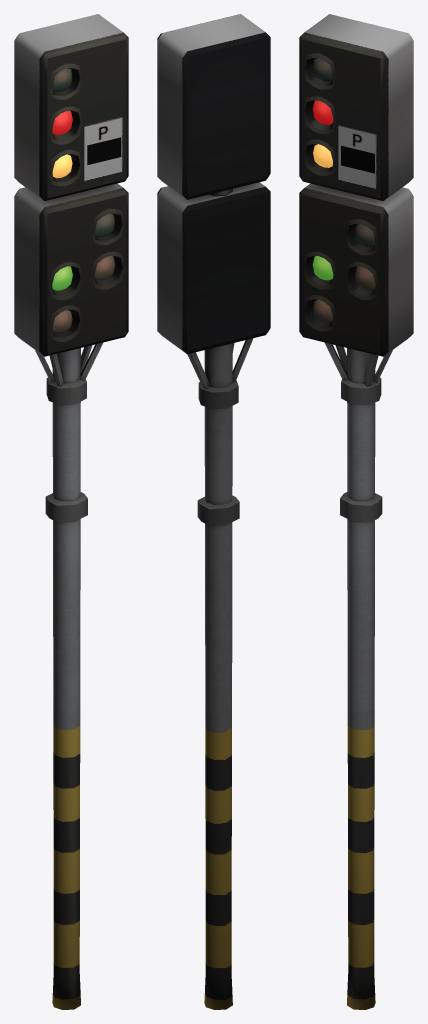
File: SM_TrackLights_Double.FBX
3 views of the same model, side by side, from view 1: azimuth 30°, elevation 25°; view 2: azimuth 210°, elevation 25°; view 3: azimuth 330°, elevation 25° (orthographic).
Visible parts, largest first — view 1: SM_TrackLights_Double; view 2: SM_TrackLights_Double; view 3: SM_TrackLights_Double.
Boxes of the visible parts, <box> form: SM_TrackLights_Double: <box>14,14,128,1009</box>; SM_TrackLights_Double: <box>157,14,270,1009</box>; SM_TrackLights_Double: <box>299,14,413,1009</box>.
Size of the model in its own units: 29.41 by 17.83 by 307.
